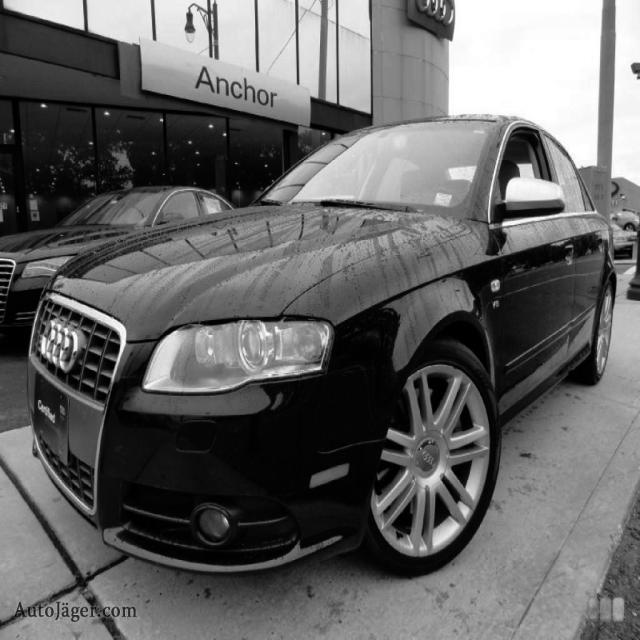car: (26, 112, 617, 578)
